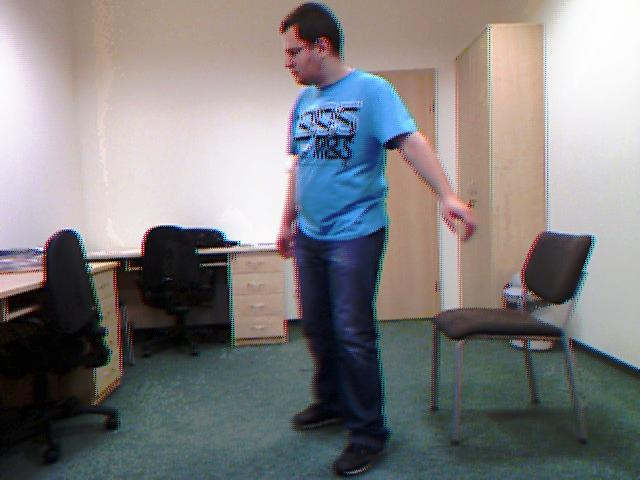standing: (257, 0, 486, 480)
